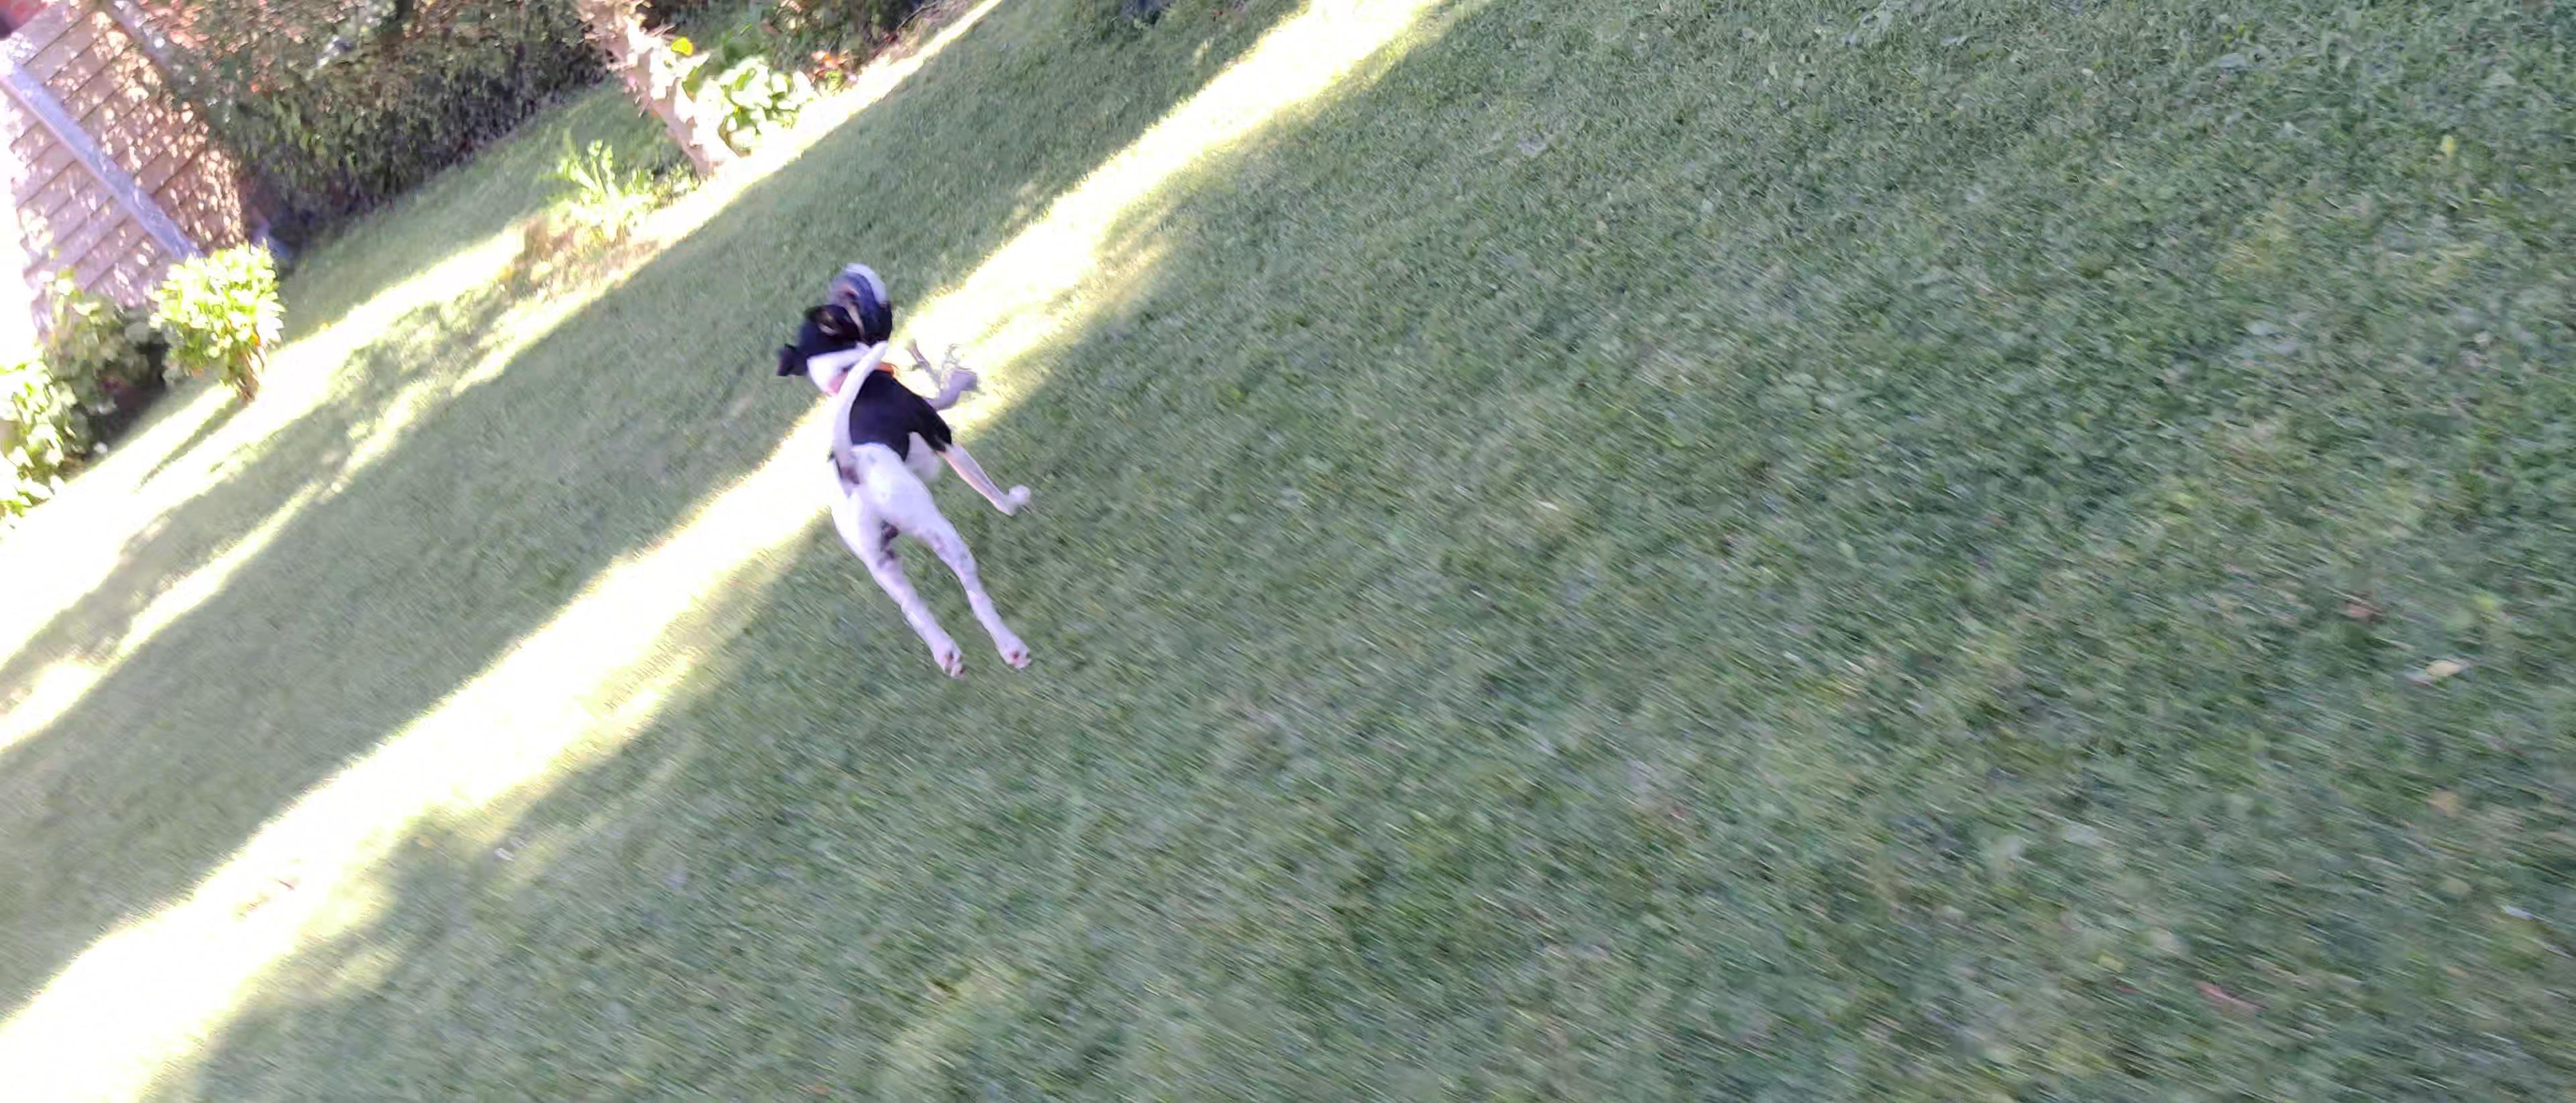Dog: (772, 289, 1037, 682)
